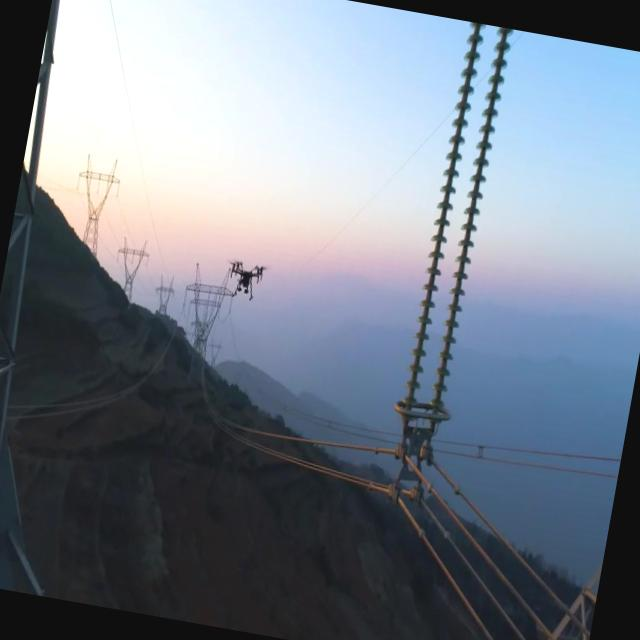drone: (222, 254, 270, 306)
